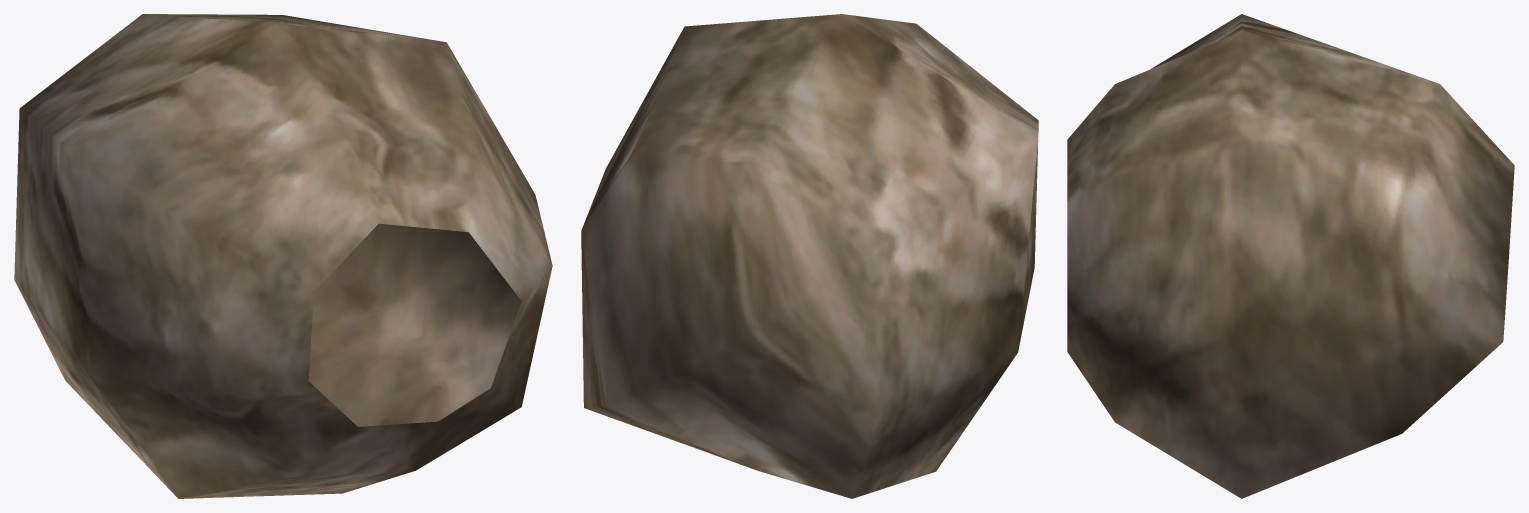
Rendered from OVERHILL_A_01_ROCK70.fbx.
3 renders of one model, left to right at view 1: azimuth 30°, elevation 25°; view 2: azimuth 150°, elevation 25°; view 3: azimuth 270°, elevation 25°, orthographic. The views are drawn at different scales.
Parts seen in each view (by area): view 1: OVERHILL_A_01_ROCK70; view 2: OVERHILL_A_01_ROCK70; view 3: OVERHILL_A_01_ROCK70.
Part boxes in pixels (<box>): OVERHILL_A_01_ROCK70: <box>14,14,552,498</box>; OVERHILL_A_01_ROCK70: <box>581,14,1038,498</box>; OVERHILL_A_01_ROCK70: <box>1067,14,1514,498</box>.
Size of the model in its own units: 9944 by 10125 by 9837.
1 material, 1 textured.
